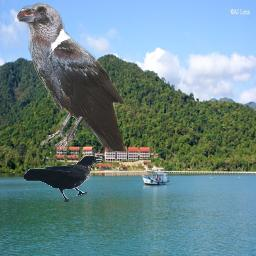Crow: (14, 2, 127, 151), (23, 155, 103, 202)
